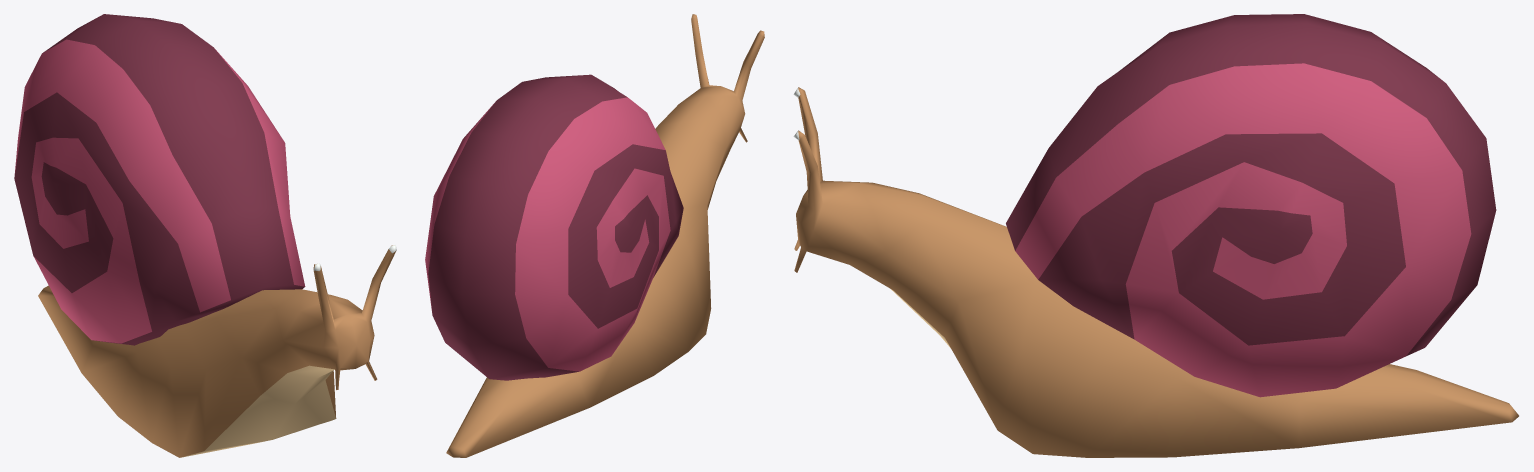
File: 025c5274-db6b-464a-badf-00e6efe6210e.glb
3 views of the same model, side by side, from view 1: azimuth 30°, elevation 25°; view 2: azimuth 150°, elevation 25°; view 3: azimuth 270°, elevation 25° (orthographic). The views are drawn at different scales.
Parts seen in each view (by area): view 1: Snail01; view 2: Snail01; view 3: Snail01.
Part boxes in pixels (bbox=[...]): Snail01: bbox=[14, 14, 396, 457]; Snail01: bbox=[425, 14, 764, 457]; Snail01: bbox=[793, 14, 1518, 457].
Size of what is drawn, in the model's own units: 0.1666 by 0.277 by 0.4646.
1 material, 1 textured.
